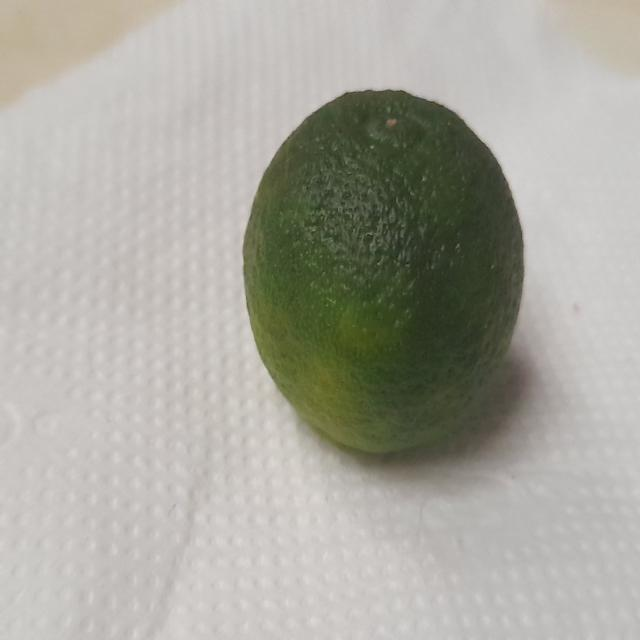heathy: (241, 70, 530, 467)
